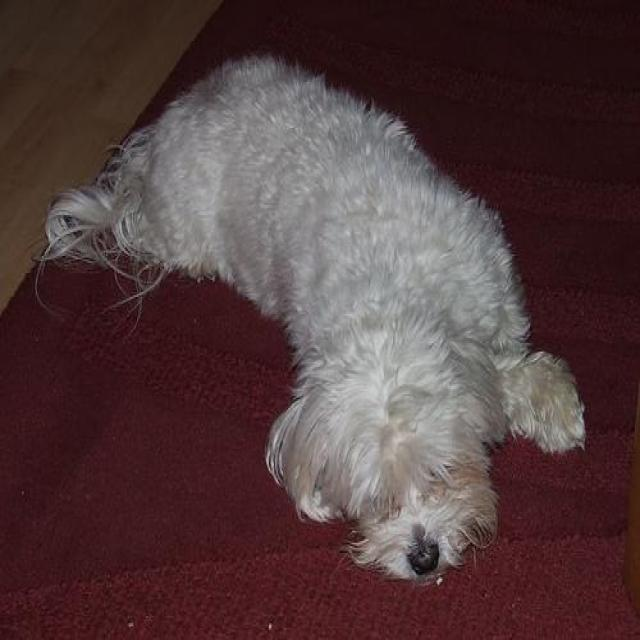relax: (31, 32, 640, 587)
